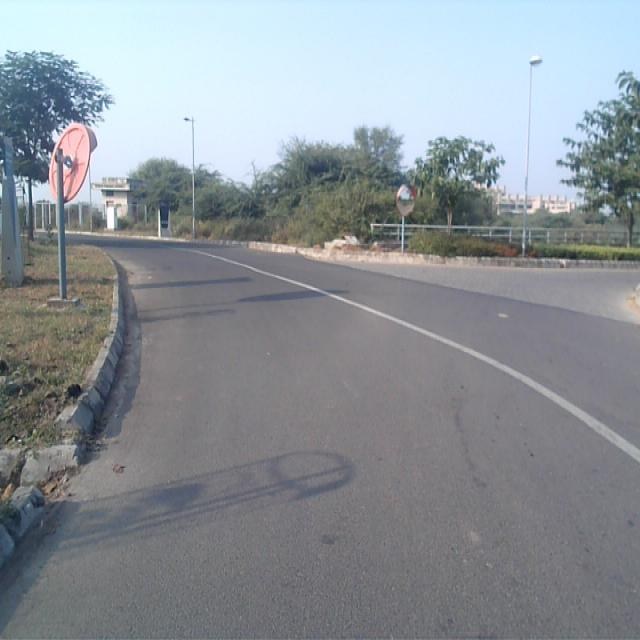lane: (0, 242, 640, 640)
